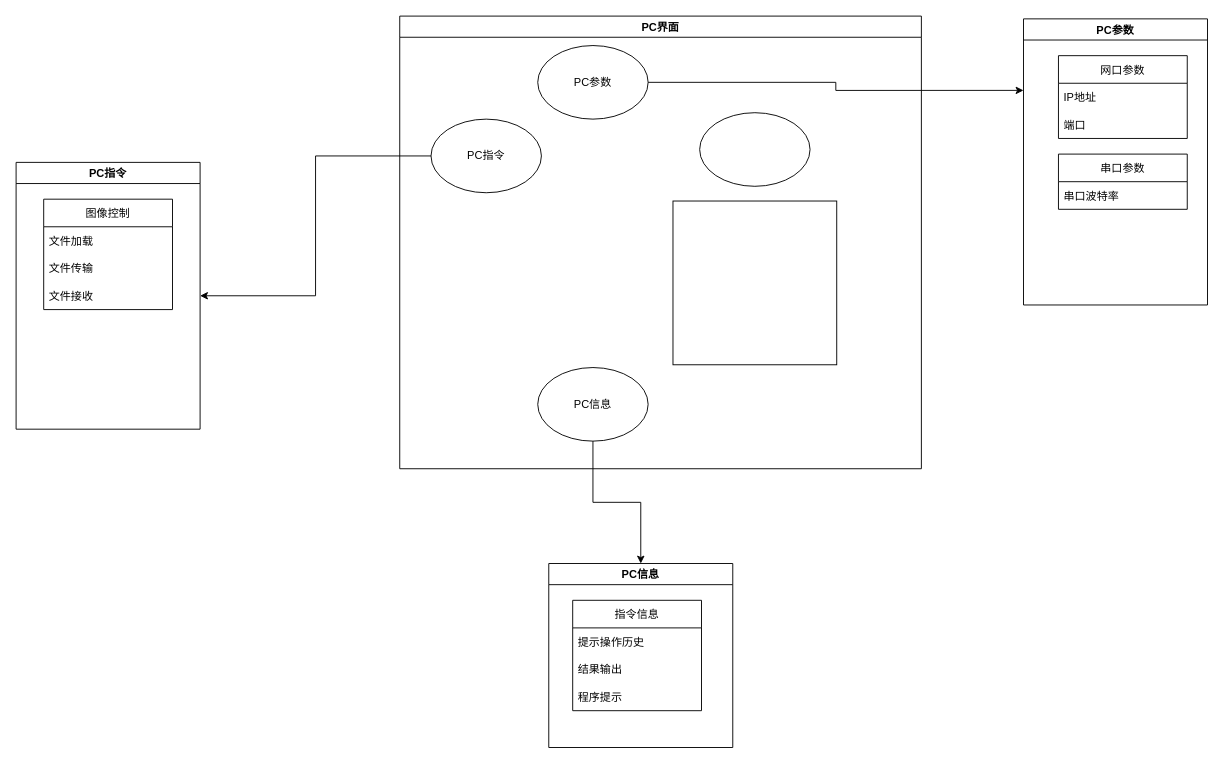
This 1224x764 diagram has some shape labels left out. Here are the shapes that lost their labels. From the top down, the centre of each, then its label:
At [754,149]: "图像主窗口".
At [754,282]: "显示操作的图像".
